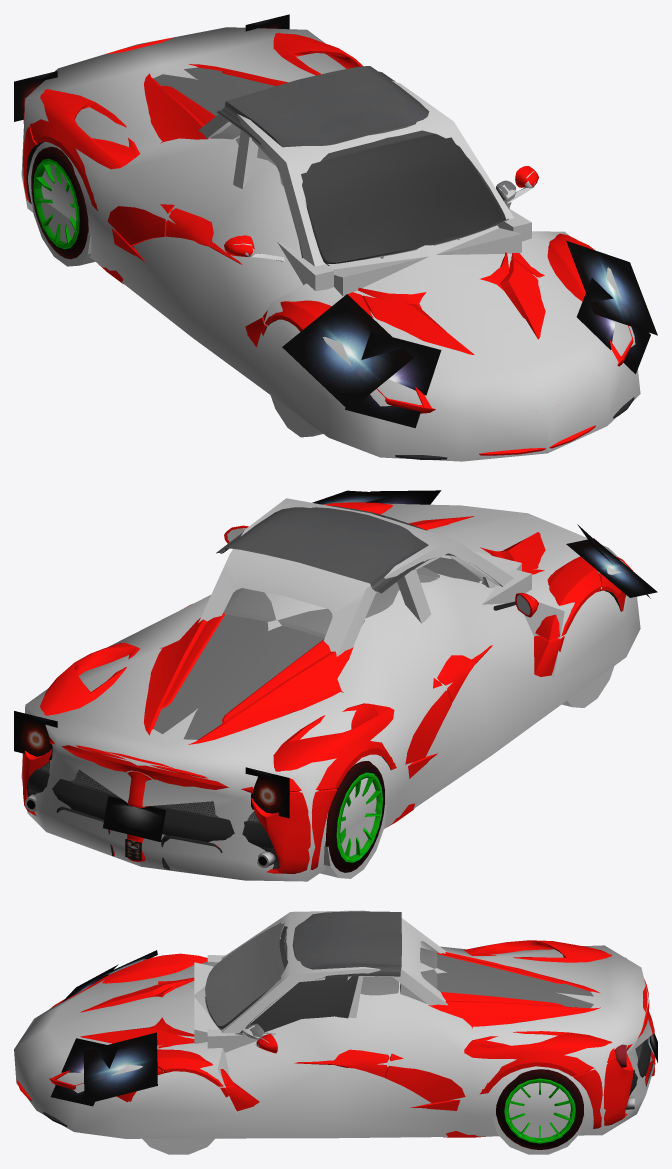
File: P_car-024_LaFerroti.fbx
The picture shows the model from 3 angles, top to bottom: view 1: azimuth 30°, elevation 25°; view 2: azimuth 150°, elevation 25°; view 3: azimuth 270°, elevation 25°; orthographic projection. The views are drawn at different scales.
Visible parts, largest first — view 1: M_Car-024_ShadowForm_LaFerroti_01, M_Car-024_Body_LaFerroti_01, M_Car-Interior_Glass_01, M_Car-024_FrontFlares_LaFerroti_01, M_Car-Interior_Details_01, M_Car-Interior_Shadowform_01, M_Car-024_Glass_LaFerroti_01, M_CarWheel_005_AP_02, M_Car-024_BackFlaresBrake_LaFerroti_01, M_Car-024_Details_LaFerroti_01, M_CarTire_005_AP_02, M_CarTire_005_AP_01; view 2: M_Car-024_ShadowForm_LaFerroti_01, M_Car-024_Body_LaFerroti_01, M_Car-Interior_Shadowform_01, M_Car-024_Glass_LaFerroti_01, M_Car-Interior_Details_01, M_Car-024_Details_LaFerroti_01, M_Car-024_BackFlares_LaFerroti_01, M_Car-024_FrontFlares_LaFerroti_01, M_CarWheel_005_AP_02, M_Car-024_BackFlaresBrake_LaFerroti_01, M_CarTire_005_AP_02, M_CarTire_005_AP_01; view 3: M_Car-024_ShadowForm_LaFerroti_01, M_Car-024_Body_LaFerroti_01, M_Car-Interior_Glass_01, M_Car-Interior_Shadowform_01, M_Car-Interior_Details_01, M_Car-024_FrontFlares_LaFerroti_01, M_Car-024_Glass_LaFerroti_01, M_Car-024_Details_LaFerroti_01, M_CarWheel_005_AP_02, M_CarTire_005_AP_02, M_CarTire_005_AP_01.
Boxes of the visible parts, x1,y1,x2,y2 form: M_Car-024_ShadowForm_LaFerroti_01: (21,27,640,461); M_Car-024_Body_LaFerroti_01: (23,32,633,455); M_Car-Interior_Glass_01: (301,134,501,262); M_Car-024_FrontFlares_LaFerroti_01: (282,240,657,428); M_Car-Interior_Details_01: (216,66,515,265); M_Car-Interior_Shadowform_01: (198,81,531,295); M_Car-024_Glass_LaFerroti_01: (29,67,459,258); M_CarWheel_005_AP_02: (31,146,88,259); M_Car-024_BackFlaresBrake_LaFerroti_01: (14,14,289,121); M_Car-024_Details_LaFerroti_01: (24,87,634,459); M_CarTire_005_AP_02: (33,188,79,249); M_CarTire_005_AP_01: (33,158,79,219); M_Car-024_ShadowForm_LaFerroti_01: (21,503,640,881); M_Car-024_Body_LaFerroti_01: (22,502,632,873); M_Car-Interior_Shadowform_01: (198,498,531,656); M_Car-024_Glass_LaFerroti_01: (153,557,600,739); M_Car-Interior_Details_01: (216,505,502,593); M_Car-024_Details_LaFerroti_01: (24,566,620,869); M_Car-024_BackFlares_LaFerroti_01: (14,712,289,841); M_Car-024_FrontFlares_LaFerroti_01: (312,490,657,598); M_CarWheel_005_AP_02: (325,761,384,872); M_Car-024_BackFlaresBrake_LaFerroti_01: (14,711,289,818); M_CarTire_005_AP_02: (336,800,382,862); M_CarTire_005_AP_01: (336,772,382,835); M_Car-024_ShadowForm_LaFerroti_01: (14,945,655,1154); M_Car-024_Body_LaFerroti_01: (16,940,655,1137); M_Car-Interior_Glass_01: (205,923,358,1032); M_Car-Interior_Shadowform_01: (194,910,447,1052); M_Car-Interior_Details_01: (204,911,401,1036); M_Car-024_FrontFlares_LaFerroti_01: (50,950,157,1106); M_Car-024_Glass_LaFerroti_01: (437,954,593,1008); M_Car-024_Details_LaFerroti_01: (43,948,655,1126); M_CarWheel_005_AP_02: (496,1069,583,1149); M_CarTire_005_AP_02: (504,1109,575,1143); M_CarTire_005_AP_01: (504,1078,575,1111).
Size of the model in its own units: 2.3 by 1.34 by 4.78.
